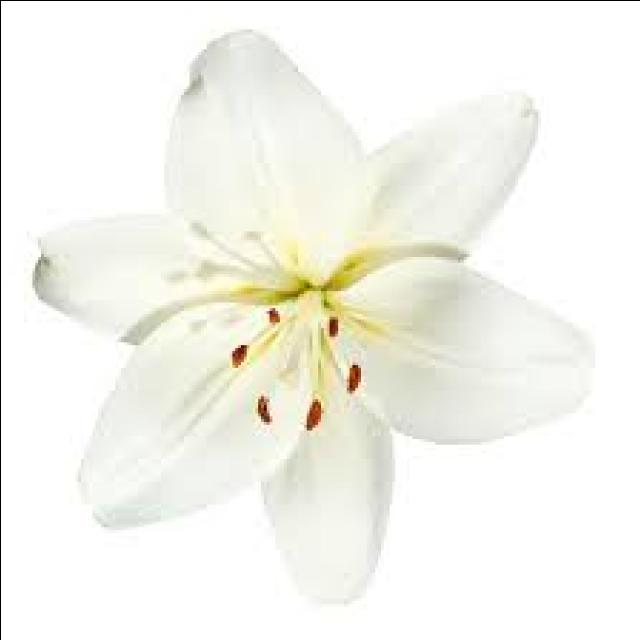lily: (1, 70, 624, 604)
